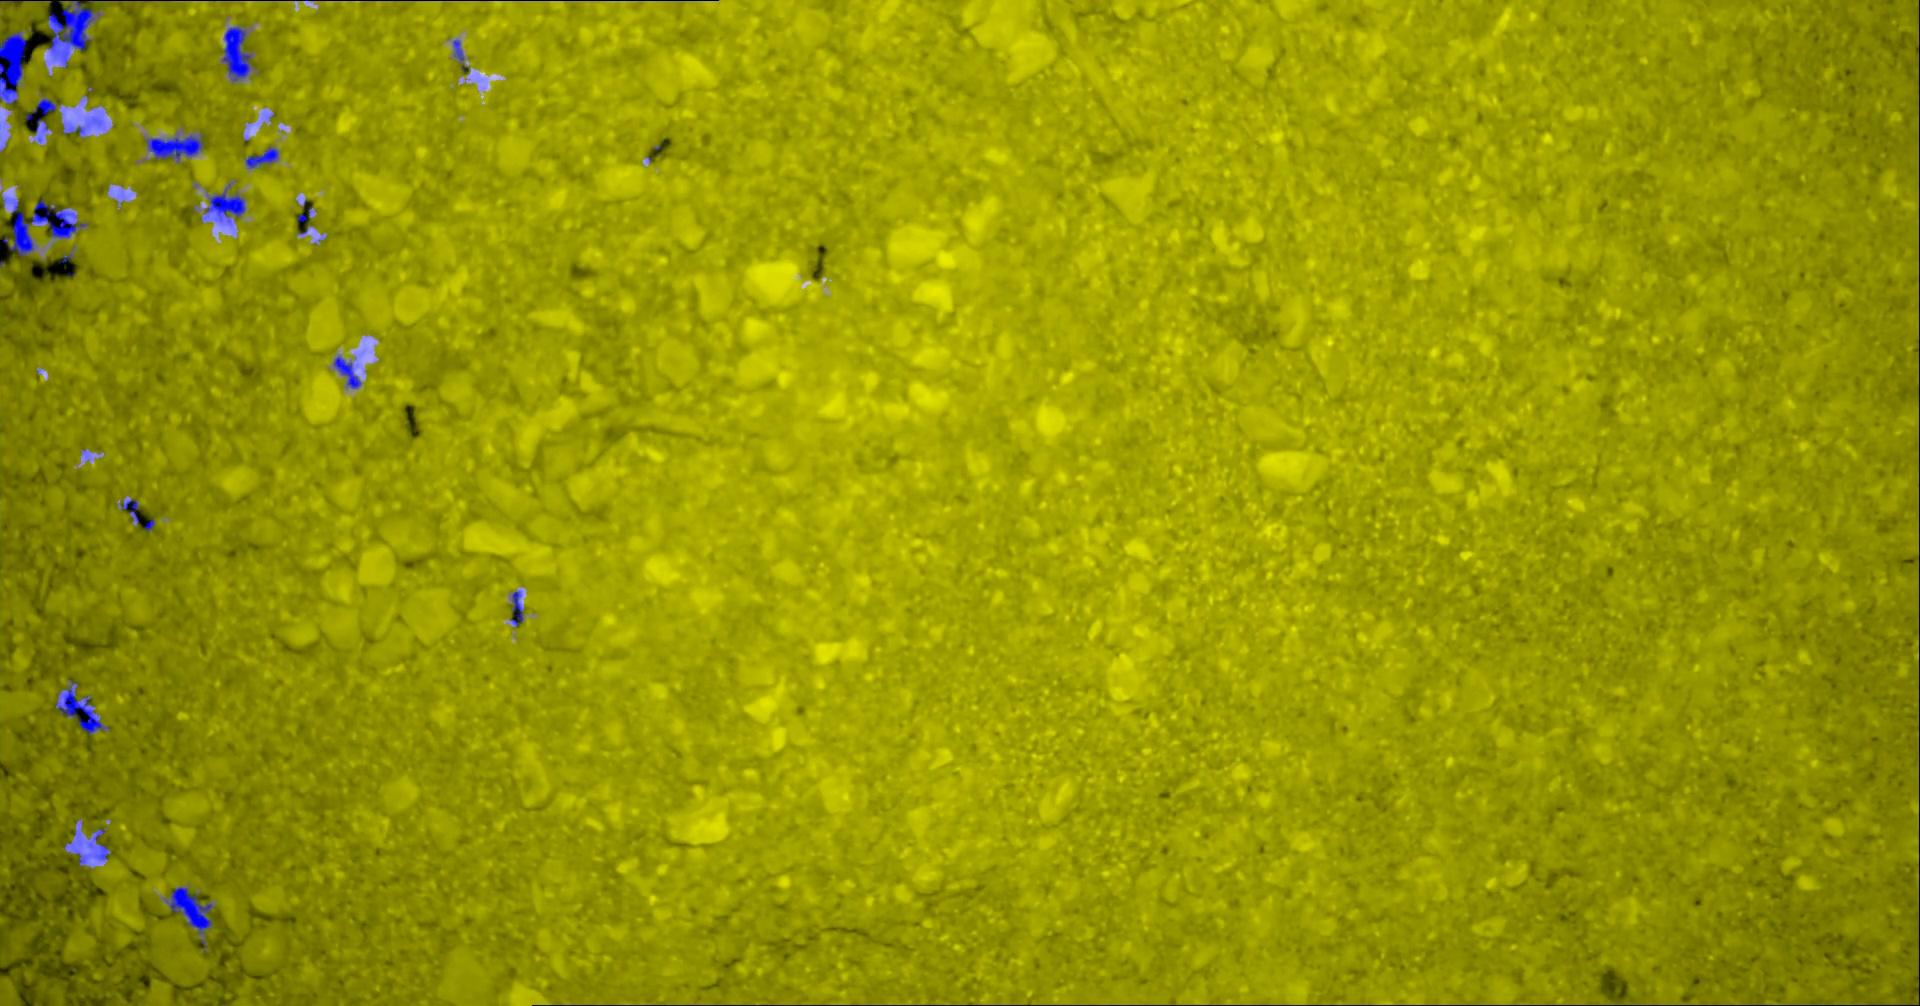ant: (55, 680, 109, 735), (164, 887, 213, 948), (222, 25, 251, 81), (145, 133, 203, 161), (204, 183, 245, 222), (25, 98, 56, 133), (333, 354, 361, 387), (244, 147, 278, 168), (93, 827, 109, 859), (509, 589, 523, 626), (452, 39, 467, 71), (119, 499, 138, 523), (62, 124, 85, 135)
